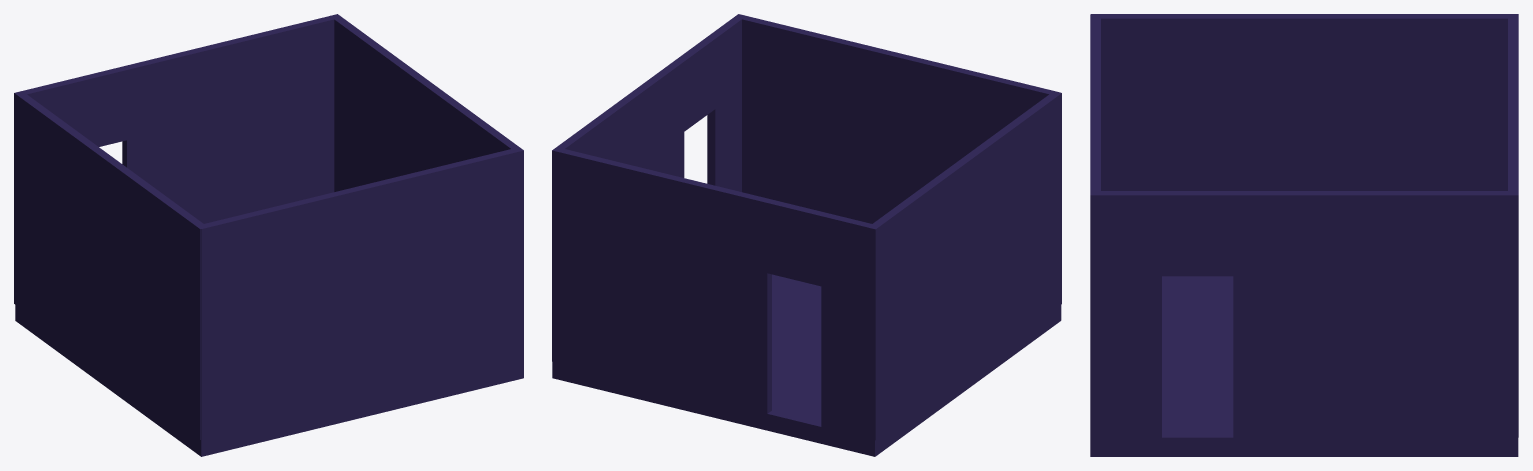
The model's file is kitchenExport.FBX.
The picture shows the model from 3 angles, left to right: view 1: azimuth 30°, elevation 25°; view 2: azimuth 150°, elevation 25°; view 3: azimuth 270°, elevation 25°; orthographic projection. The views are drawn at different scales.
Parts seen in each view (by area): view 1: WallF, WallL, WallB, WallR, Floor; view 2: WallB, WallL, WallF, WallR, Floor; view 3: WallR, WallL, Floor, WallF, WallB.
Part boxes in pixels (box(x1,y1,x2,y2)): WallF: box(197, 147, 523, 439); WallL: box(14, 93, 205, 439); WallB: box(15, 15, 335, 223); WallR: box(330, 14, 523, 191); Floor: box(15, 305, 523, 456); WallB: box(552, 147, 879, 438); WallL: box(867, 93, 1061, 440); WallF: box(734, 14, 1060, 223); WallR: box(552, 14, 745, 363); Floor: box(552, 274, 1061, 456); WallR: box(1091, 191, 1518, 437); WallL: box(1091, 14, 1518, 190); Floor: box(1090, 276, 1518, 456); WallF: box(1090, 14, 1100, 437); WallB: box(1508, 14, 1518, 190).
Size of the model in its own units: 158 by 106 by 158.
